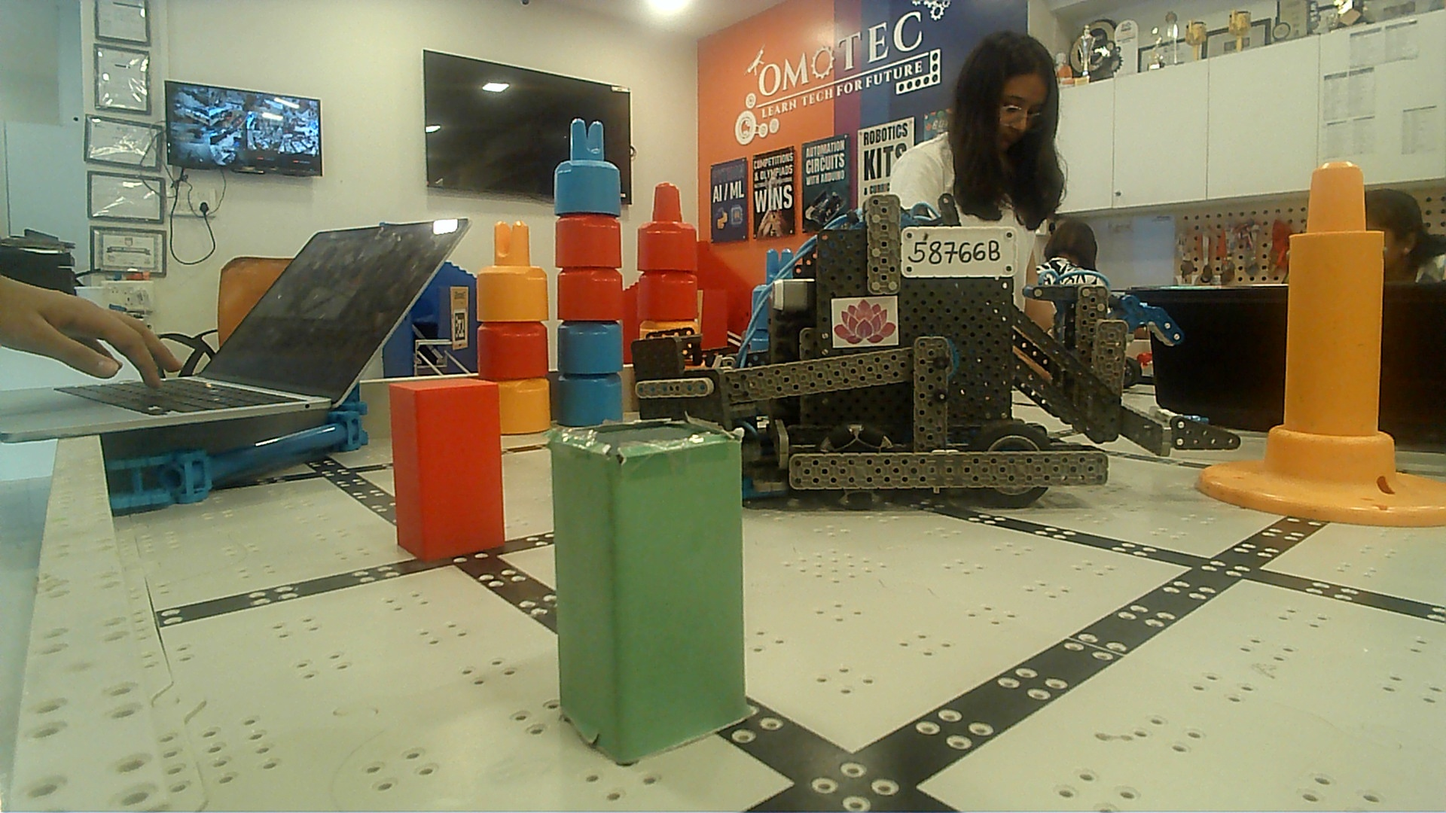green: (544, 412, 748, 767)
